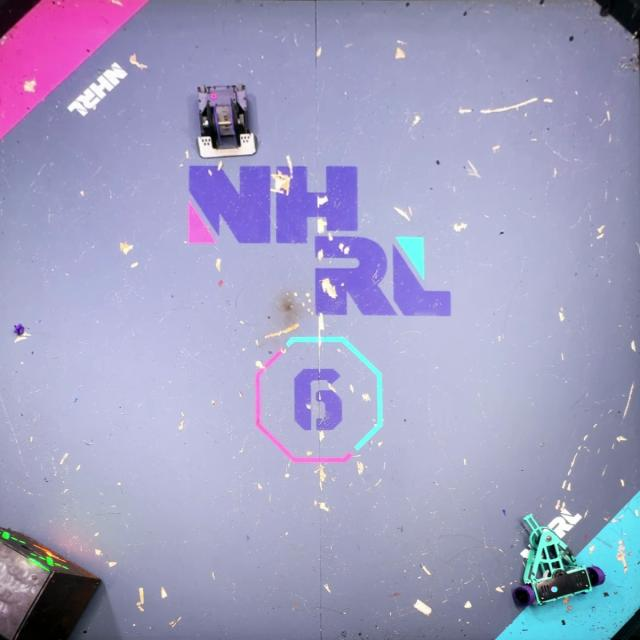housebot: (0, 524, 104, 640)
robot: (513, 512, 607, 607), (194, 81, 258, 159)
